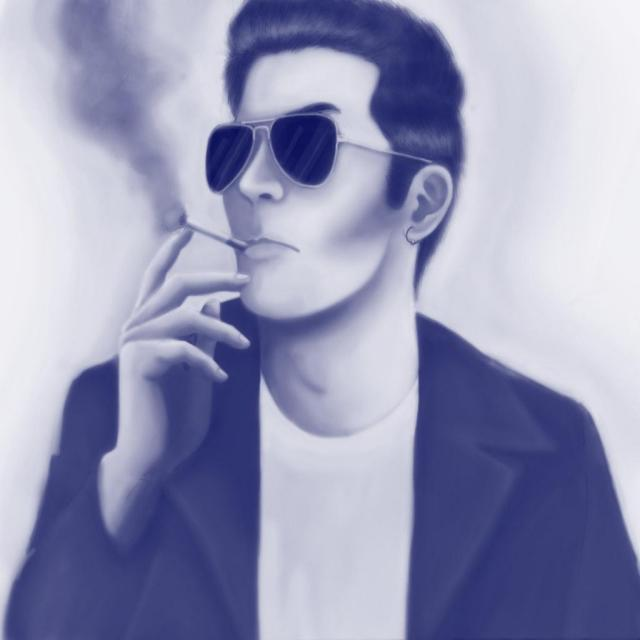Сигарета: (180, 215, 248, 253)
Тело: (8, 2, 638, 640)
